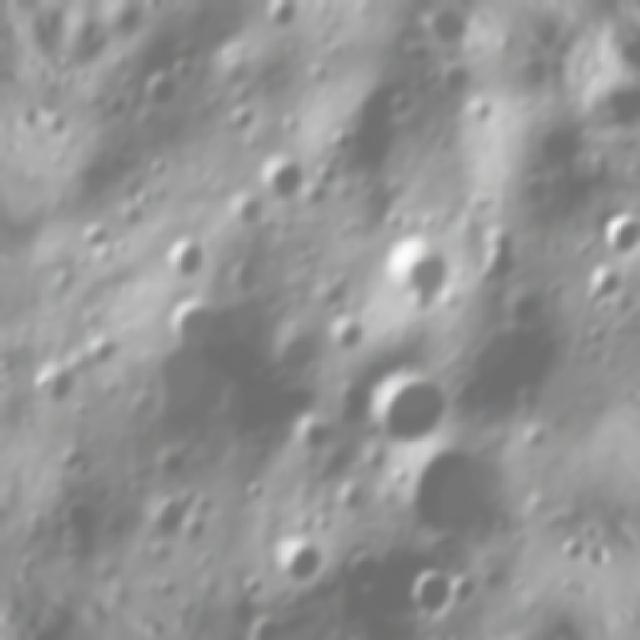crater: (132, 274, 332, 449), (382, 424, 535, 558), (435, 295, 570, 428), (352, 351, 468, 458), (367, 221, 462, 313), (248, 139, 318, 210), (159, 286, 226, 354), (156, 221, 224, 288), (260, 522, 328, 587), (401, 557, 464, 623), (334, 535, 392, 597), (464, 224, 519, 288), (52, 486, 110, 546), (135, 59, 191, 116), (578, 258, 633, 316), (592, 196, 640, 262), (70, 210, 124, 268), (32, 354, 88, 409), (326, 372, 382, 426), (140, 434, 192, 491), (306, 437, 356, 495), (76, 320, 129, 372), (218, 186, 270, 239), (283, 408, 335, 460), (116, 376, 167, 426), (436, 57, 482, 105), (317, 316, 368, 359), (243, 603, 302, 640), (222, 92, 268, 137), (443, 563, 485, 612), (223, 259, 268, 304), (378, 78, 420, 125), (474, 618, 560, 640), (253, 0, 307, 34), (332, 478, 372, 518), (111, 198, 152, 235), (39, 107, 76, 147), (307, 155, 347, 191), (104, 0, 183, 18), (327, 122, 362, 162), (554, 529, 589, 568), (577, 322, 611, 358), (374, 627, 459, 640), (238, 571, 271, 603), (238, 474, 271, 506), (127, 185, 159, 217), (317, 568, 346, 600)
